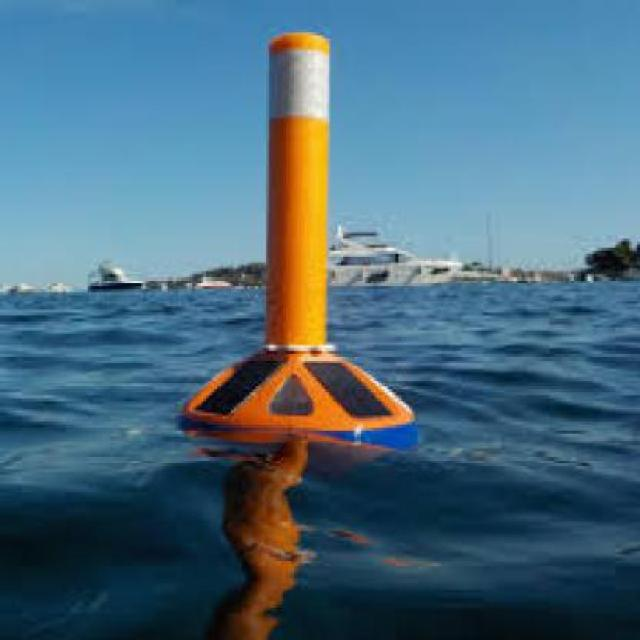buoy: (171, 27, 436, 470)
